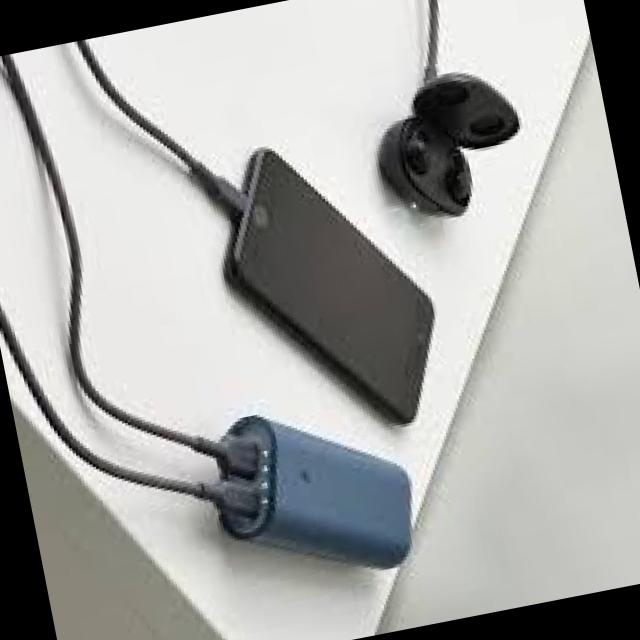power_bank: (199, 389, 429, 606)
